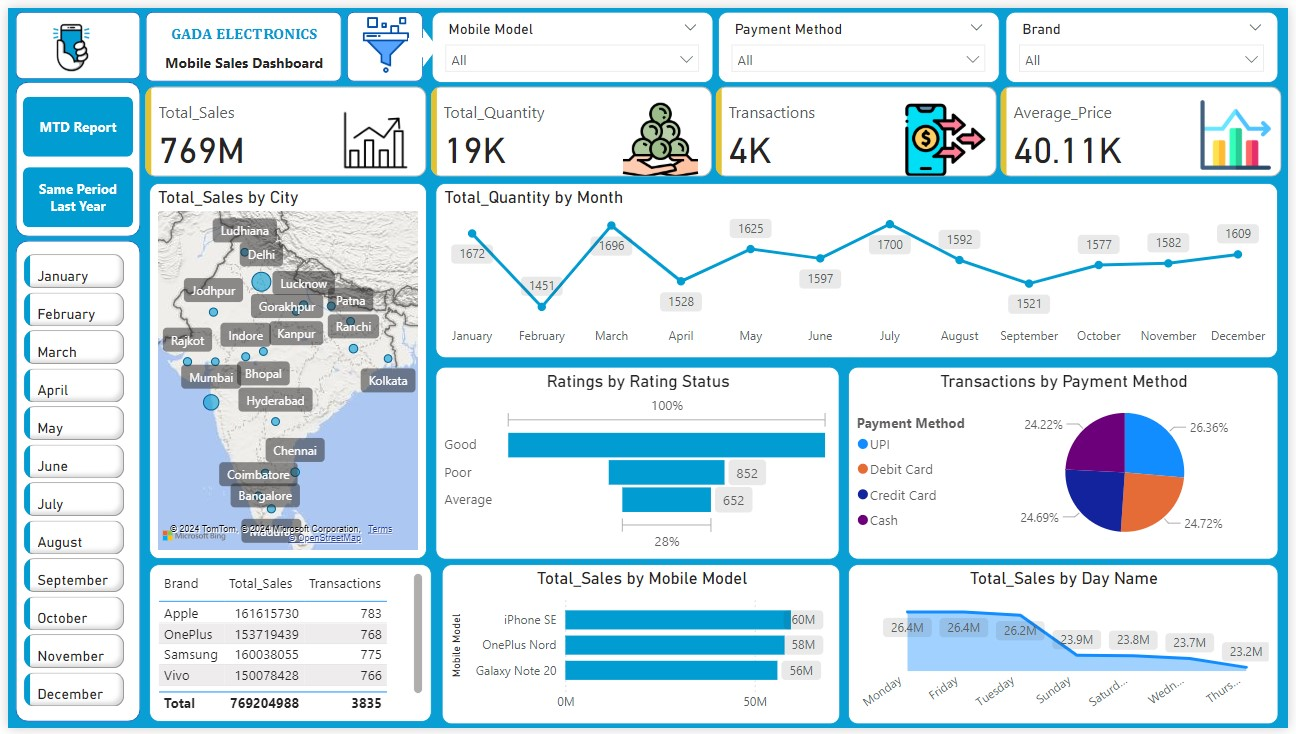

The page's visual inventory and layout, read from the dashboard file:
{"tool":"powerbi","page":{"name":"Dashboard","canvas":[1280,720],"ordinal":0},"visuals":[{"type":"shape","box":[7.5,3.8,125,67.5],"z":0},{"type":"image","box":[23.8,3.8,78.8,71.2],"z":1000},{"type":"shape","box":[7.5,73.8,125,155],"z":2000},{"type":"shape","box":[7.5,232.5,125,481.2],"z":3000},{"type":"advancedSlicerVisual","fields":{"Values":["Custom_Calendar.Date.Variation.Date Hierarchy.Month"]},"box":[11.2,241.2,110,472.5],"z":4000},{"type":"cardVisual","fields":{"Data":["Sales_Data.Total_Sales","Sales_Data.Total_Quantity","Sales_Data.Transactions","Sales_Data.Average_Price"]},"box":[132.5,73.8,1147.5,100],"z":5000},{"type":"slicer","fields":{"Values":["Sales_Data.Mobile Model"]},"box":[423.8,3.8,281.2,71.2],"z":6000},{"type":"slicer","fields":{"Values":["Sales_Data.Payment Method"]},"box":[710,3.8,281.2,71.2],"z":7000},{"type":"slicer","fields":{"Values":["Sales_Data.Brand"]},"box":[997.5,3.8,272.5,71.2],"z":8000},{"type":"shape","box":[338.8,3.8,76.2,70],"z":9000},{"type":"image","box":[337.5,3.8,81.2,66.2],"z":10000},{"type":"shape","box":[398.8,20,30,40],"z":11000},{"type":"shape","box":[137.5,3.8,196.2,70],"z":12000,"group":"g1"},{"type":"textbox","box":[146.4,40.5,179.8,29.8],"z":13000,"group":"g1"},{"type":"map","fields":{"Category":["Sales_Data.City"],"Size":["Sales_Data.Total_Sales"]},"box":[141.2,175,277.5,376.2],"z":14000},{"type":"lineChart","fields":{"Y":["Sales_Data.Total_Quantity"],"Category":["Custom_Calendar.Date.Variation.Date Hierarchy.Month"]},"box":[427.5,175,842.5,175],"z":15000},{"type":"funnel","title":"Ratings by Rating Status","fields":{"Y":["CountNonNull(Sales_Data.Customer Ratings)"],"Category":["Sales_Data.Rating Status"]},"box":[427.5,358.8,403.8,192.5],"z":16000},{"type":"pieChart","fields":{"Y":["Sales_Data.Transactions"],"Category":["Sales_Data.Payment Method"]},"box":[840,358.8,430,192.5],"z":17000},{"type":"clusteredBarChart","fields":{"Y":["Sales_Data.Total_Sales"],"Category":["Sales_Data.Mobile Model"]},"box":[433.8,556.2,398.8,160],"z":18000},{"type":"areaChart","fields":{"Y":["Sales_Data.Total_Sales"],"Category":["Custom_Calendar.Day Name"]},"box":[840,556.2,430,160],"z":19000},{"type":"tableEx","fields":{"Values":["Sales_Data.Brand","Sales_Data.Total_Sales","Sales_Data.Transactions"]},"box":[141.2,556.2,282.5,157.5],"z":20000},{"type":"pageNavigator","box":[15,88.8,110,130],"z":21000},{"type":"textbox","box":[146.4,10.8,179.8,29.8],"z":22000,"group":"g1"},{"type":"group","id":"g1","title":"Group 1","box":[137.5,3.8,196.2,70],"z":22001}]}

Visuals, with their boxes in screenshot pixels (x1, y1, x2, y2), scaled from the page's 1280x720 canvas onto the 1296x734 screenshot:
shape: 8/4/134/73
image: 24/4/104/76
shape: 8/75/134/233
shape: 8/237/134/728
advancedSlicerVisual - Custom_Calendar.Date.Variation.Date Hierarchy.Month: 11/246/123/728
cardVisual - Sales_Data.Total_Sales x Sales_Data.Total_Quantity: 134/75/1295/177
slicer - Sales_Data.Mobile Model: 429/4/714/76
slicer - Sales_Data.Payment Method: 719/4/1004/76
slicer - Sales_Data.Brand: 1010/4/1286/76
shape: 343/4/420/75
image: 342/4/424/71
shape: 404/20/434/61
shape: 139/4/338/75
textbox: 148/41/330/72
map - Sales_Data.City x Sales_Data.Total_Sales: 143/178/424/562
lineChart - Sales_Data.Total_Quantity x Custom_Calendar.Date.Variation.Date Hierarchy.Month: 433/178/1286/357
"Ratings by Rating Status" funnel: 433/366/842/562
pieChart - Sales_Data.Transactions x Sales_Data.Payment Method: 850/366/1286/562
clusteredBarChart - Sales_Data.Total_Sales x Sales_Data.Mobile Model: 439/567/843/730
areaChart - Sales_Data.Total_Sales x Custom_Calendar.Day Name: 850/567/1286/730
tableEx - Sales_Data.Brand x Sales_Data.Total_Sales: 143/567/429/728
pageNavigator: 15/91/127/223
textbox: 148/11/330/41
"Group 1" group: 139/4/338/75
